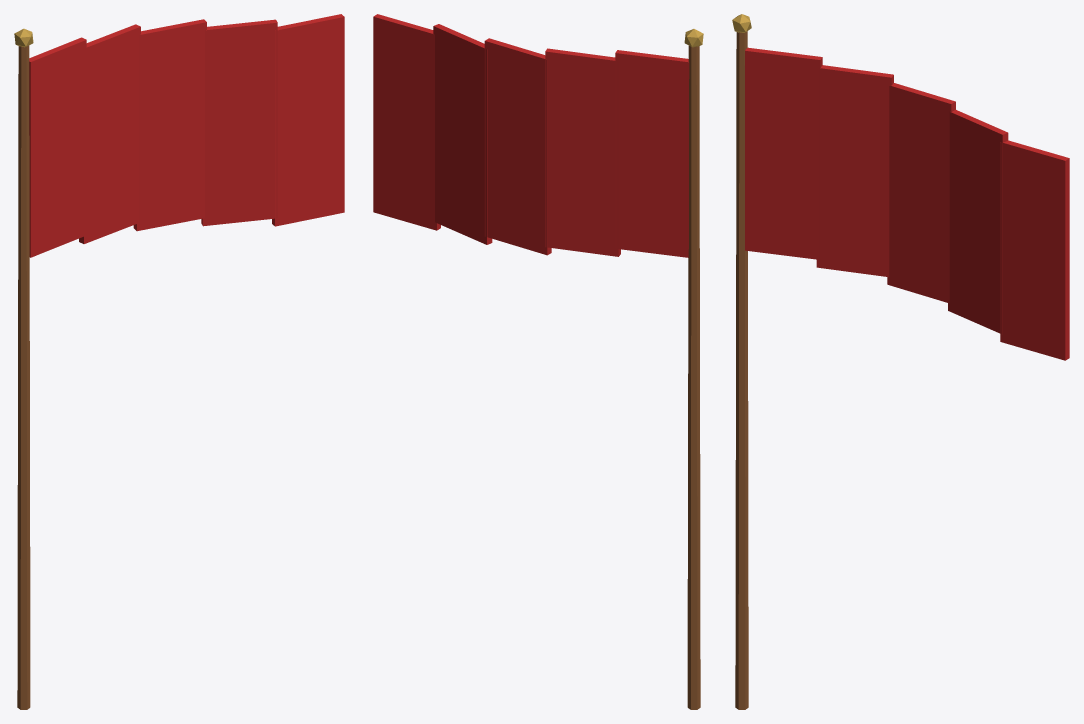
Rendered from flag_red.fbx.
3 renders of one model, left to right at view 1: azimuth 30°, elevation 25°; view 2: azimuth 150°, elevation 25°; view 3: azimuth 330°, elevation 25°, orthographic. The views are drawn at different scales.
Parts seen in each view (by area): view 1: flag_red; view 2: flag_red; view 3: flag_red.
Part boxes in pixels (x1,y1,x2,y2): flag_red: (14, 14, 344, 709); flag_red: (373, 14, 703, 709); flag_red: (732, 14, 1069, 709).
Size of the model in its own units: 1.75 by 3.47 by 0.2139.
